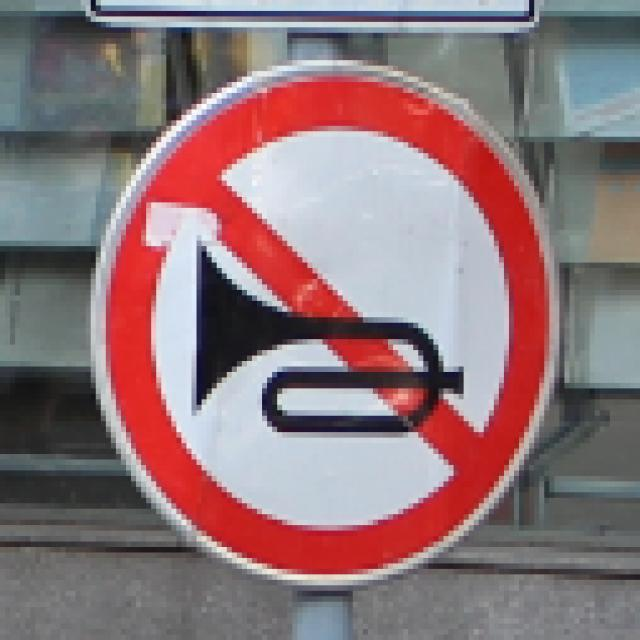No Horn: (92, 56, 555, 586)
